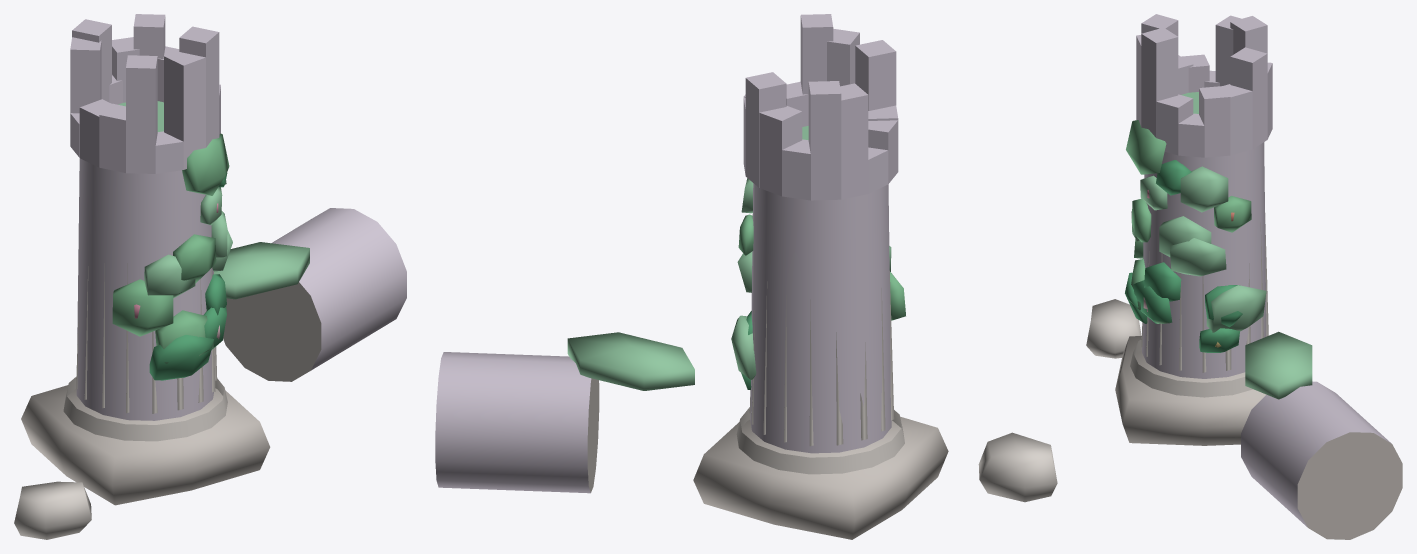
Rendered from shrine_column_broken.gltf.
3 views of the same model, side by side, from view 1: azimuth 30°, elevation 25°; view 2: azimuth 150°, elevation 25°; view 3: azimuth 270°, elevation 25° (orthographic). The views are drawn at different scales.
Visible parts, largest first — view 1: shrine_column_broken; view 2: shrine_column_broken; view 3: shrine_column_broken.
Boxes of the visible parts, x1,y1,x2,y2 form: shrine_column_broken: (14,14,406,539); shrine_column_broken: (435,14,1057,539); shrine_column_broken: (1086,14,1402,539).
Size of what is drawn, in the model's own units: 3.44 by 2.9 by 2.13.
